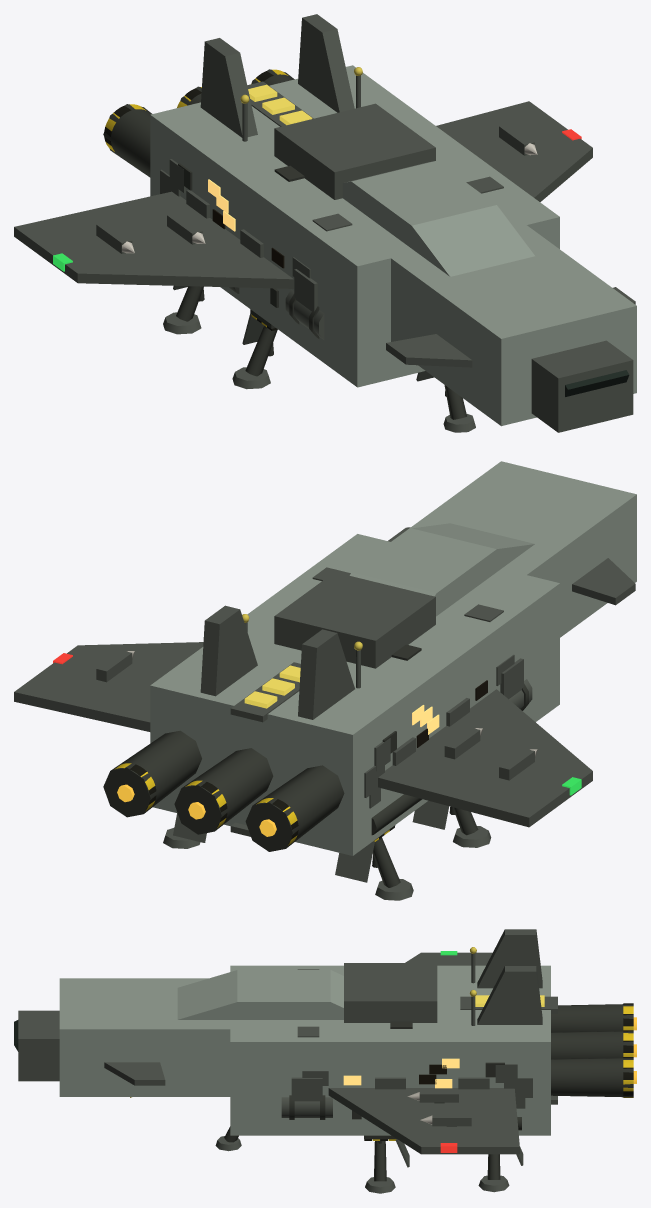
Rendered from trader-l.glb.
The picture shows the model from 3 angles, top to bottom: view 1: azimuth 30°, elevation 25°; view 2: azimuth 150°, elevation 25°; view 3: azimuth 270°, elevation 25°; orthographic projection. The views are drawn at different scales.
Visible parts, largest first — view 1: hullMain, hullNose, wingLeft, canopyFairing, dorsalCargoBlister, wingRight, hullNoseTip, stabilizerFinR, stabilizerFinL, engineHousing, canardLeft, gearStrut (×2) (+5 smaller); view 2: hullMain, hullNose, wingLeft, engineHousing (×3), dorsalCargoBlister, wingRight, canopyFairing, stabilizerFinR, stabilizerFinL, missileBody (×3), canardLeft, gearBayDoor (×2) (+4 smaller); view 3: hullMain, hullNose, wingRight, canopyFairing, engineHousing (×3), dorsalCargoBlister, hullNoseTip, stabilizerFinR, stabilizerFinL, canardRight, missileBody (×2), traderShipPropellantTankR (+8 smaller).
Part boxes in pixels (x1,y1,x2,y2): hullMain: [150, 65, 559, 387]; hullNose: [391, 218, 636, 426]; wingLeft: [14, 191, 293, 288]; canopyFairing: [342, 161, 534, 276]; dorsalCargoBlister: [274, 103, 435, 199]; wingRight: [436, 101, 592, 202]; hullNoseTip: [531, 340, 633, 432]; stabilizerFinR: [298, 14, 354, 112]; stabilizerFinL: [200, 38, 257, 137]; engineHousing: [103, 104, 151, 177]; canardLeft: [386, 334, 472, 367]; gearStrut (×2): [176, 286, 277, 376]; hullMain: [150, 534, 559, 855]; hullNose: [383, 461, 636, 637]; wingLeft: [378, 689, 592, 827]; engineHousing (×3): [103, 730, 344, 851]; dorsalCargoBlister: [274, 572, 435, 668]; wingRight: [14, 642, 203, 731]; canopyFairing: [349, 523, 534, 616]; stabilizerFinR: [200, 605, 257, 696]; stabilizerFinL: [298, 629, 354, 719]; missileBody (×3): [96, 650, 534, 780]; canardLeft: [572, 558, 635, 605]; gearBayDoor (×2): [335, 800, 448, 882]; hullMain: [230, 965, 550, 1135]; hullNose: [59, 978, 245, 1096]; wingRight: [328, 1088, 519, 1154]; canopyFairing: [177, 970, 343, 1019]; engineHousing (×3): [551, 1004, 633, 1097]; dorsalCargoBlister: [344, 963, 437, 1022]; hullNoseTip: [18, 1010, 59, 1081]; stabilizerFinR: [477, 966, 542, 1024]; stabilizerFinL: [477, 929, 542, 988]; canardRight: [104, 1062, 165, 1085]; missileBody (×2): [419, 1090, 471, 1126]; traderShipPropellantTankR: [281, 1097, 332, 1117].
Bounding box in the file's own units: 4.47 × 2.08 × 6.03.
